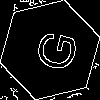G: (25, 25, 79, 75)
